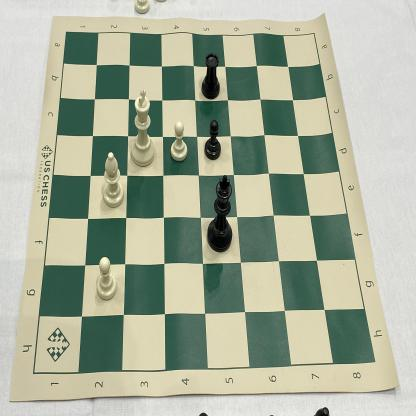black-king: (205, 173, 236, 257)
black-pawn: (203, 120, 222, 165)
black-rook: (199, 51, 222, 102)
white-bishop: (99, 150, 126, 209)
white-king: (131, 88, 156, 170)
white-pawn: (95, 254, 117, 303), (169, 118, 189, 164)
